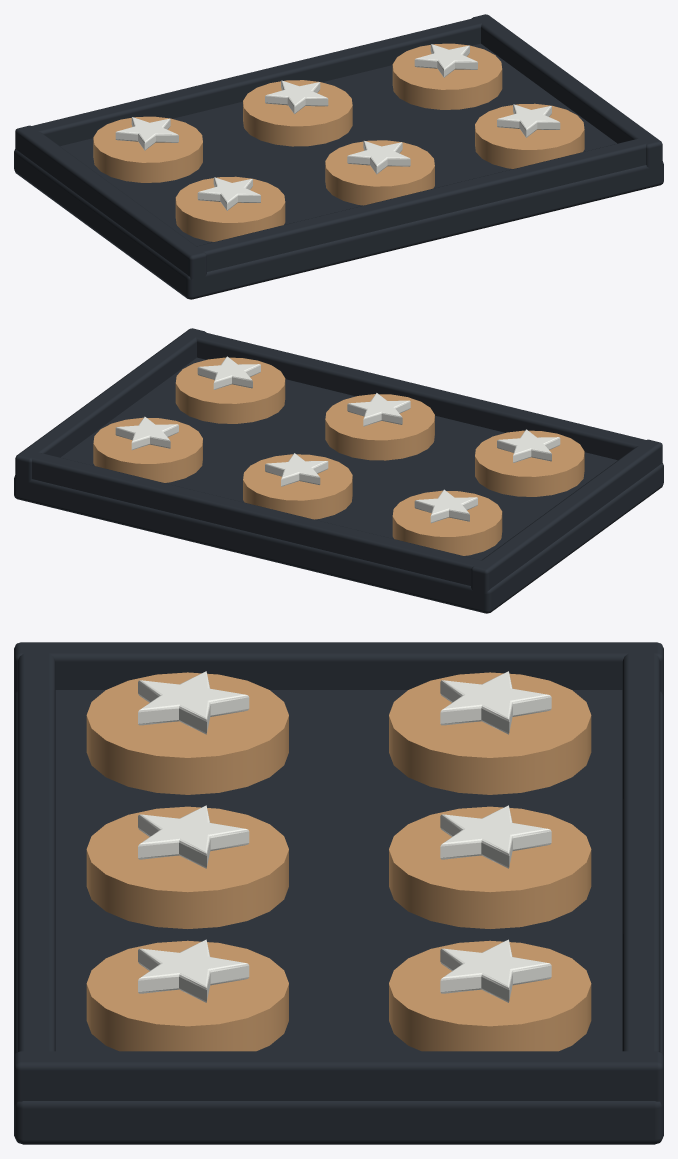
Rendered from christmas-storybook-cookie-baking-tray-0fb0e79b__18769.glb.
3 views of the same model, one above another, from view 1: azimuth 30°, elevation 25°; view 2: azimuth 150°, elevation 25°; view 3: azimuth 270°, elevation 25° (orthographic). The views are drawn at different scales.
Parts seen in each view (by area): view 1: ink, biscuit, cream; view 2: ink, biscuit, cream; view 3: ink, biscuit, cream.
Part boxes in pixels (x1,y1,x2,y2): ink: [14, 14, 663, 299]; biscuit: [93, 43, 584, 241]; cream: [115, 44, 560, 210]; ink: [14, 328, 663, 613]; biscuit: [93, 357, 584, 555]; cream: [115, 356, 560, 523]; ink: [14, 642, 663, 1144]; biscuit: [86, 672, 591, 1051]; cream: [138, 671, 551, 1002].
Bounding box in the file's own units: 0.67 × 0.0771 × 0.43.
